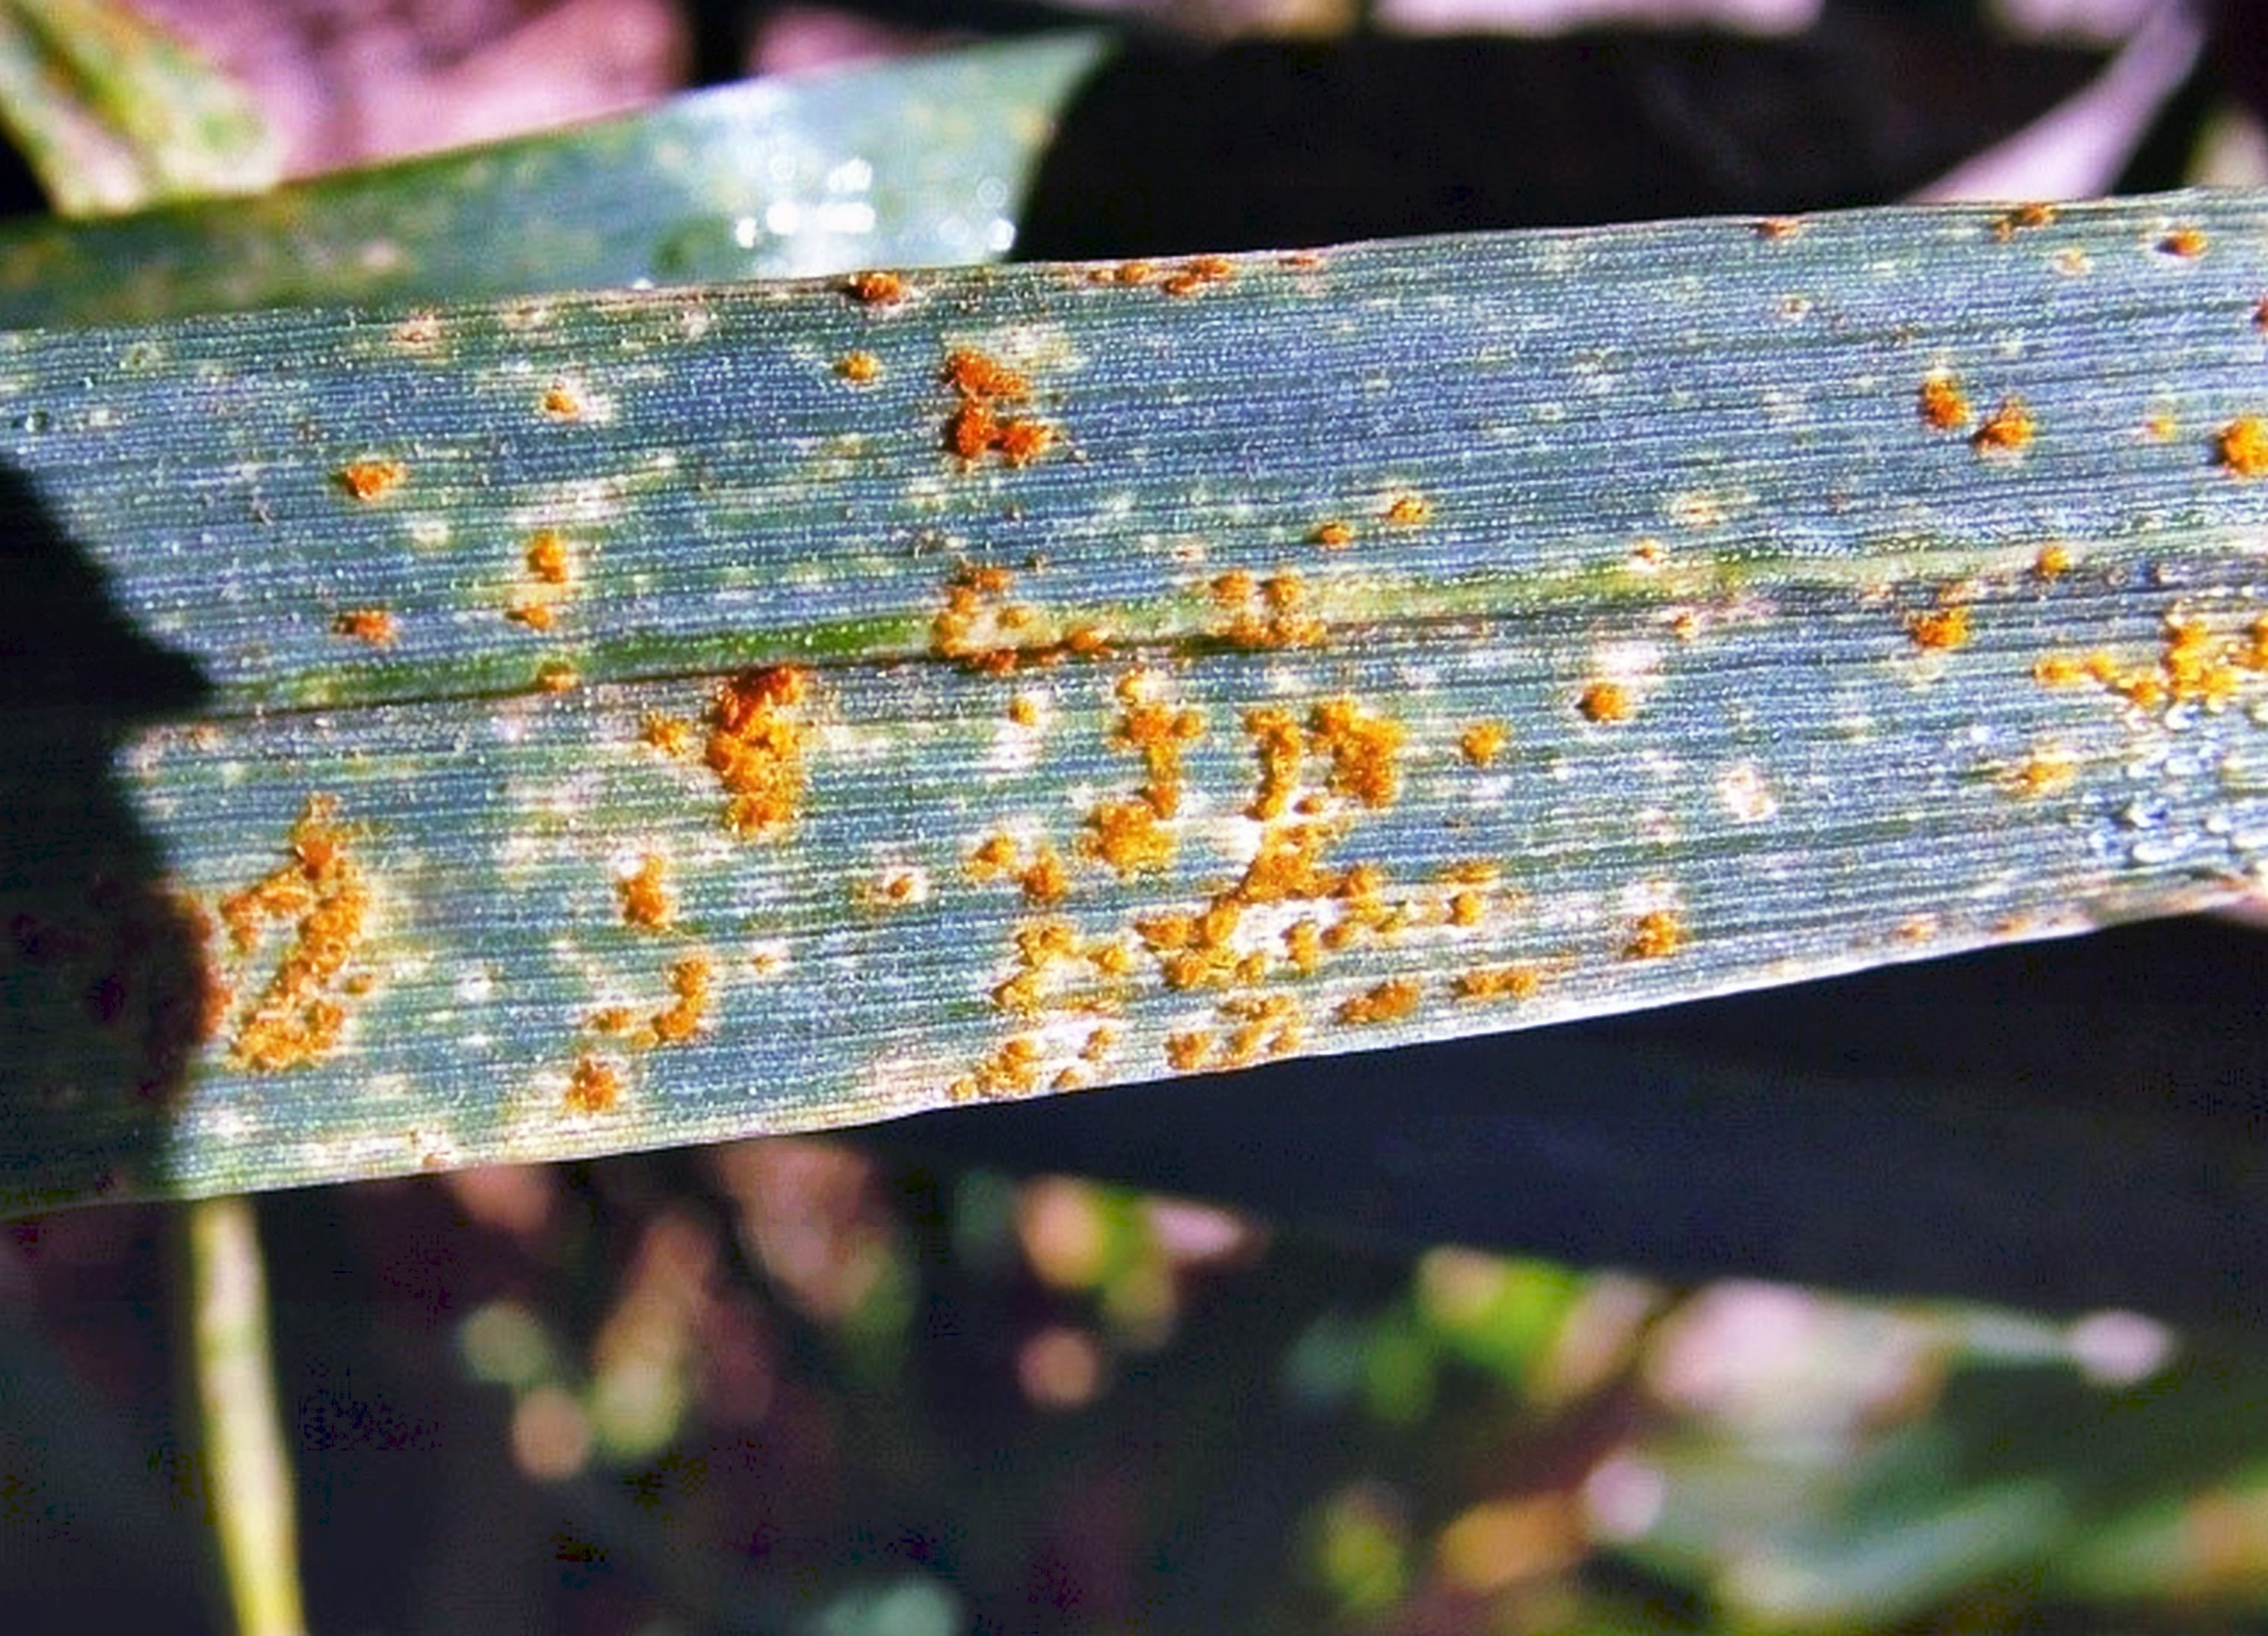Leaf Rust: (210, 231, 1574, 1166)
